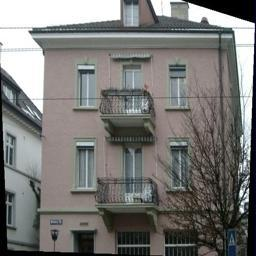building: (28, 0, 235, 256)
